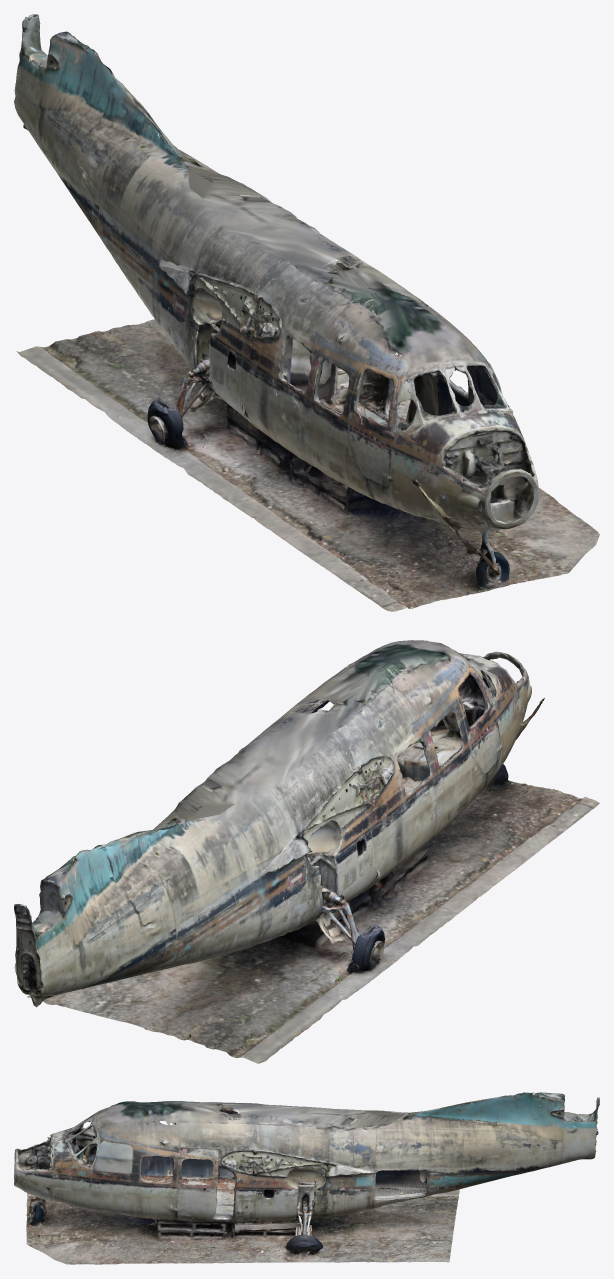
Rendered from plane_wreck.dae.
3 views of the same model, one above another, from view 1: azimuth 30°, elevation 25°; view 2: azimuth 150°, elevation 25°; view 3: azimuth 270°, elevation 25° (orthographic). The views are drawn at different scales.
Visible parts, largest first — view 1: P_166; view 2: P_166; view 3: P_166.
Boxes of the visible parts, x1,y1,x2,y2 form: P_166: (14,14,599,611); P_166: (14,640,599,1063); P_166: (14,1092,599,1264).
Bounding box in the file's own units: 4 × 13.44 × 3.48.
Materials: 1 (1 with a texture image).
